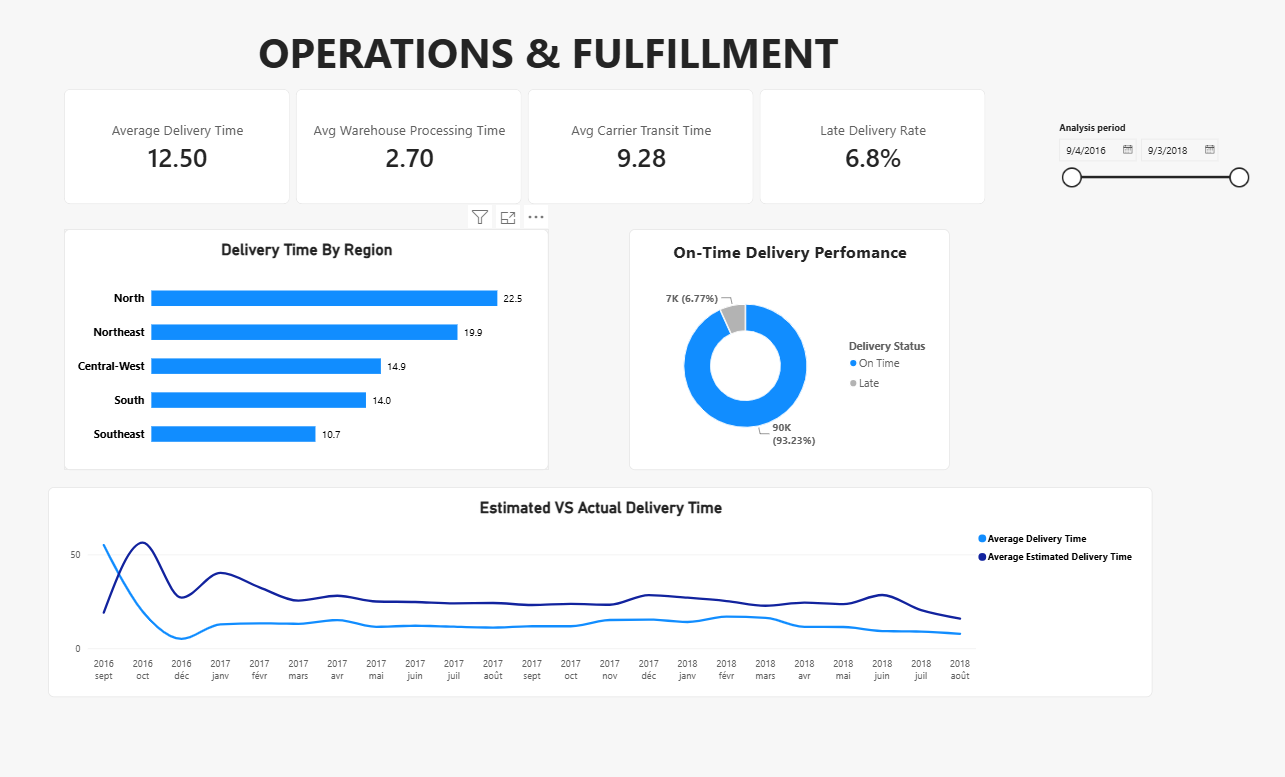

Layout of this report page (visuals, bound fields, positions):
{"tool":"powerbi","page":{"name":"Fulfillment & logistics","canvas":[1920,1080],"ordinal":3},"visuals":[{"type":"textbox","box":[9.3,43.2,1910.7,84.9],"z":0},{"type":"cardVisual","fields":{"Data":["fct_orders._Shipping -Average Delivery Days","fct_orders._Shipping - Avg Warehouse Processing Days","fct_orders._Shipping - Avg Carrier Transit Days","fct_orders._Shipping Late Delivery Rate"]},"box":[337.2,128.5,1193.8,149.9],"z":1000},{"type":"slicer","fields":{"Values":["fct_orders.full_date"]},"box":[1617.5,169.8,256.2,126.6],"z":2000},{"type":"lineChart","title":"Estimated VS Actual Delivery Time","fields":{"Category":["dim_date.Year Month"],"Y":["fct_orders._Shipping -Average Delivery Days","fct_orders._Shipping -Average Estimated Delivery"]},"box":[316.4,643.6,1429.2,271.6],"z":3000},{"type":"clusteredBarChart","title":"Delivery Time By Region","fields":{"Category":["dim_customers.customer_region"],"Y":["fct_orders._Shipping -Average Delivery Days"]},"box":[338,308.7,626.6,311.8],"z":4000},{"type":"donutChart","title":"On-Time Delivery Perfomance","fields":{"Category":["fct_orders._Shipping_Delivery Status"],"Y":["fct_orders._Overview-Total Orders"]},"box":[1068,308.7,415.2,311.8],"z":5000}]}

Visuals, with their boxes on the page's 1920x1080 design canvas (x1, y1, x2, y2). These are canvas units, not pixel positions in the 1285x777 screenshot, which may show the page scaled, cropped or inside an application window:
textbox: <region>9, 43, 1920, 128</region>
cardVisual - fct_orders._Shipping -Average Delivery Days x fct_orders._Shipping - Avg Warehouse Processing Days: <region>337, 128, 1531, 278</region>
slicer - fct_orders.full_date: <region>1618, 170, 1874, 296</region>
"Estimated VS Actual Delivery Time" lineChart: <region>316, 644, 1746, 915</region>
"Delivery Time By Region" clusteredBarChart: <region>338, 309, 965, 620</region>
"On-Time Delivery Perfomance" donutChart: <region>1068, 309, 1483, 620</region>
